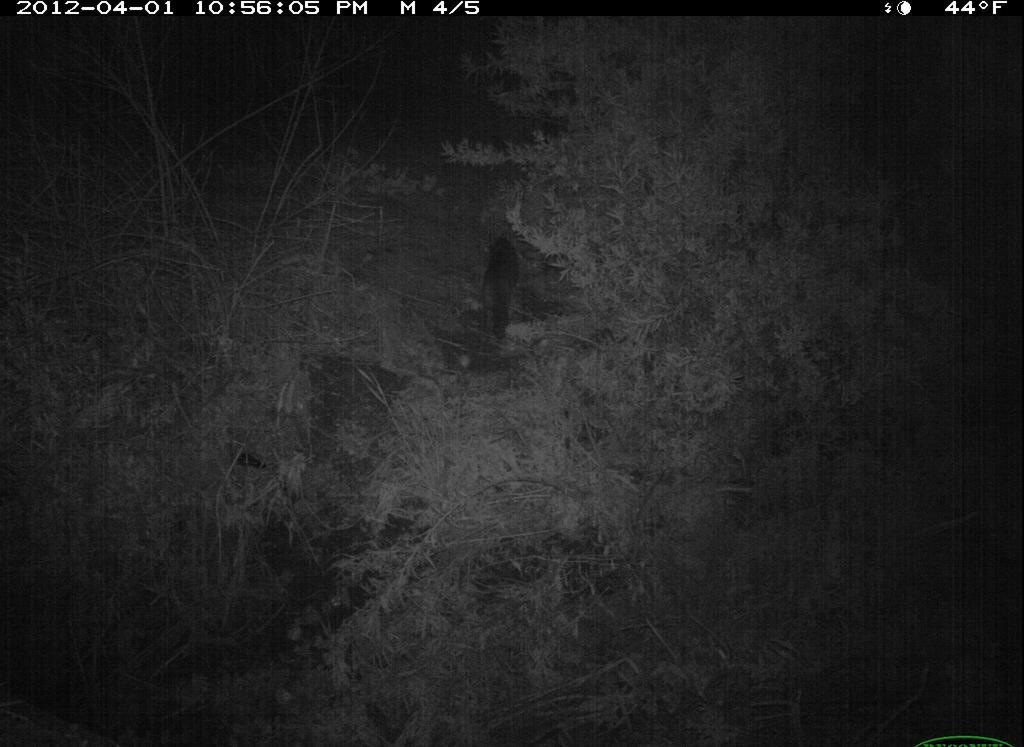cat: (474, 226, 541, 368)
